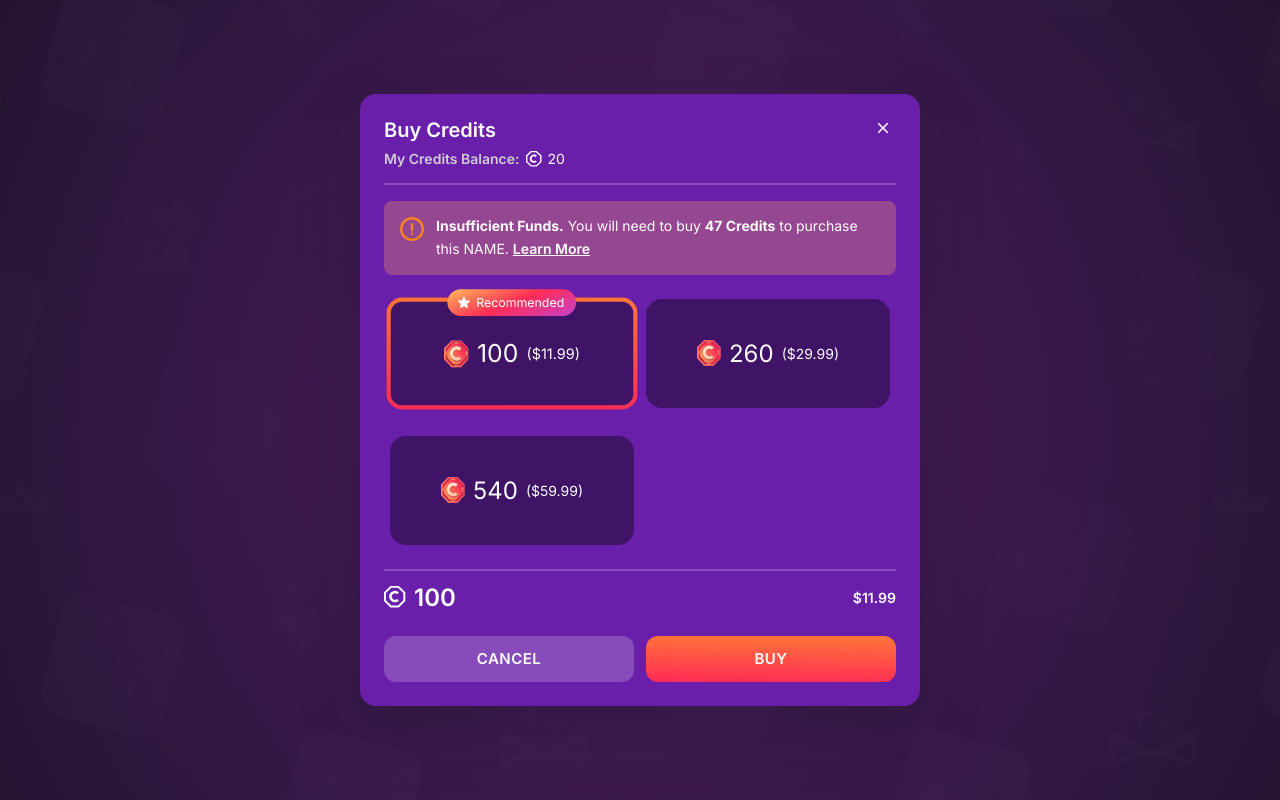
Test: NameBuyModal › and the buyer cannot afford the NAME yet › should follow the buyer when they pick a different pack
Click the button "260 ($29.99)" at [768, 353], box [646, 299, 890, 408]
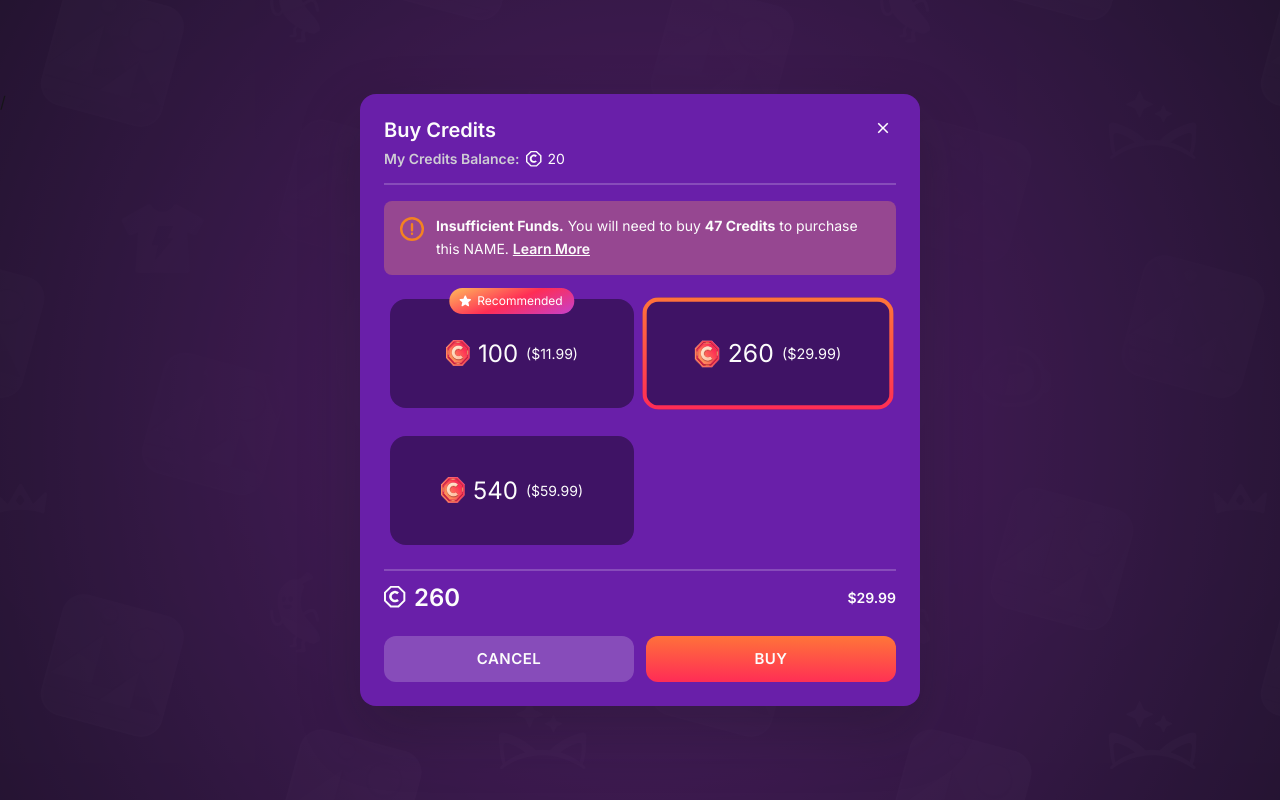
Result: the text with test id "topup-total-credits" reads "260" at [414, 583, 460, 612]
